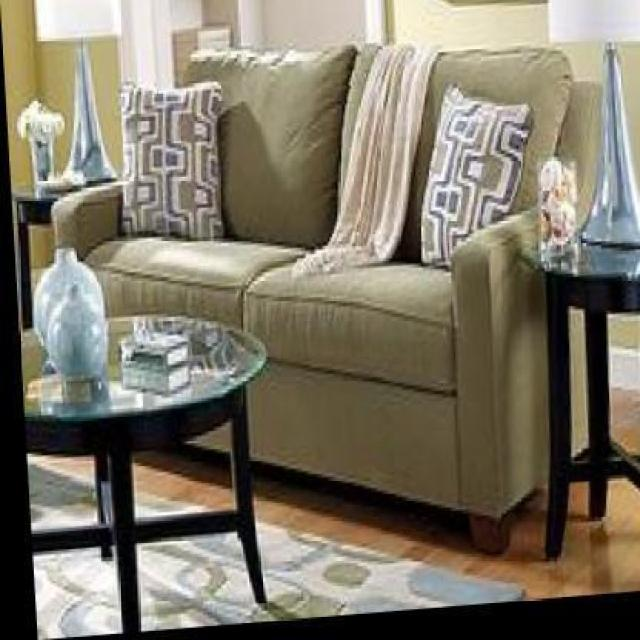tables: (517, 242, 638, 560)
